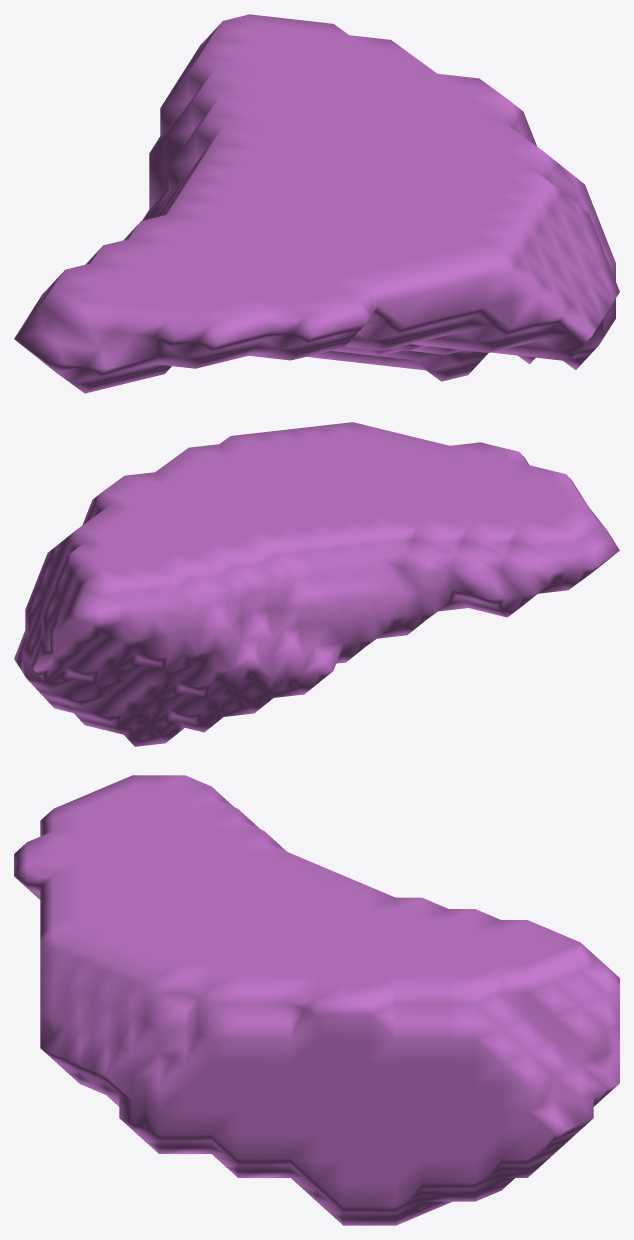
The model's file is chr1_vacv_conflict_boundary_move_pos_12h_to_18h.glb.
The picture shows the model from 3 angles, top to bottom: view 1: azimuth 30°, elevation 25°; view 2: azimuth 150°, elevation 25°; view 3: azimuth 270°, elevation 25°; orthographic projection. The views are drawn at different scales.
Parts seen in each view (by area): view 1: world; view 2: world; view 3: world.
Part boxes in pixels (<box>): world: <box>14,14,619,393</box>; world: <box>14,422,619,746</box>; world: <box>14,775,619,1225</box>.
Size of the model in its own units: 28.97 by 13.17 by 30.28.
